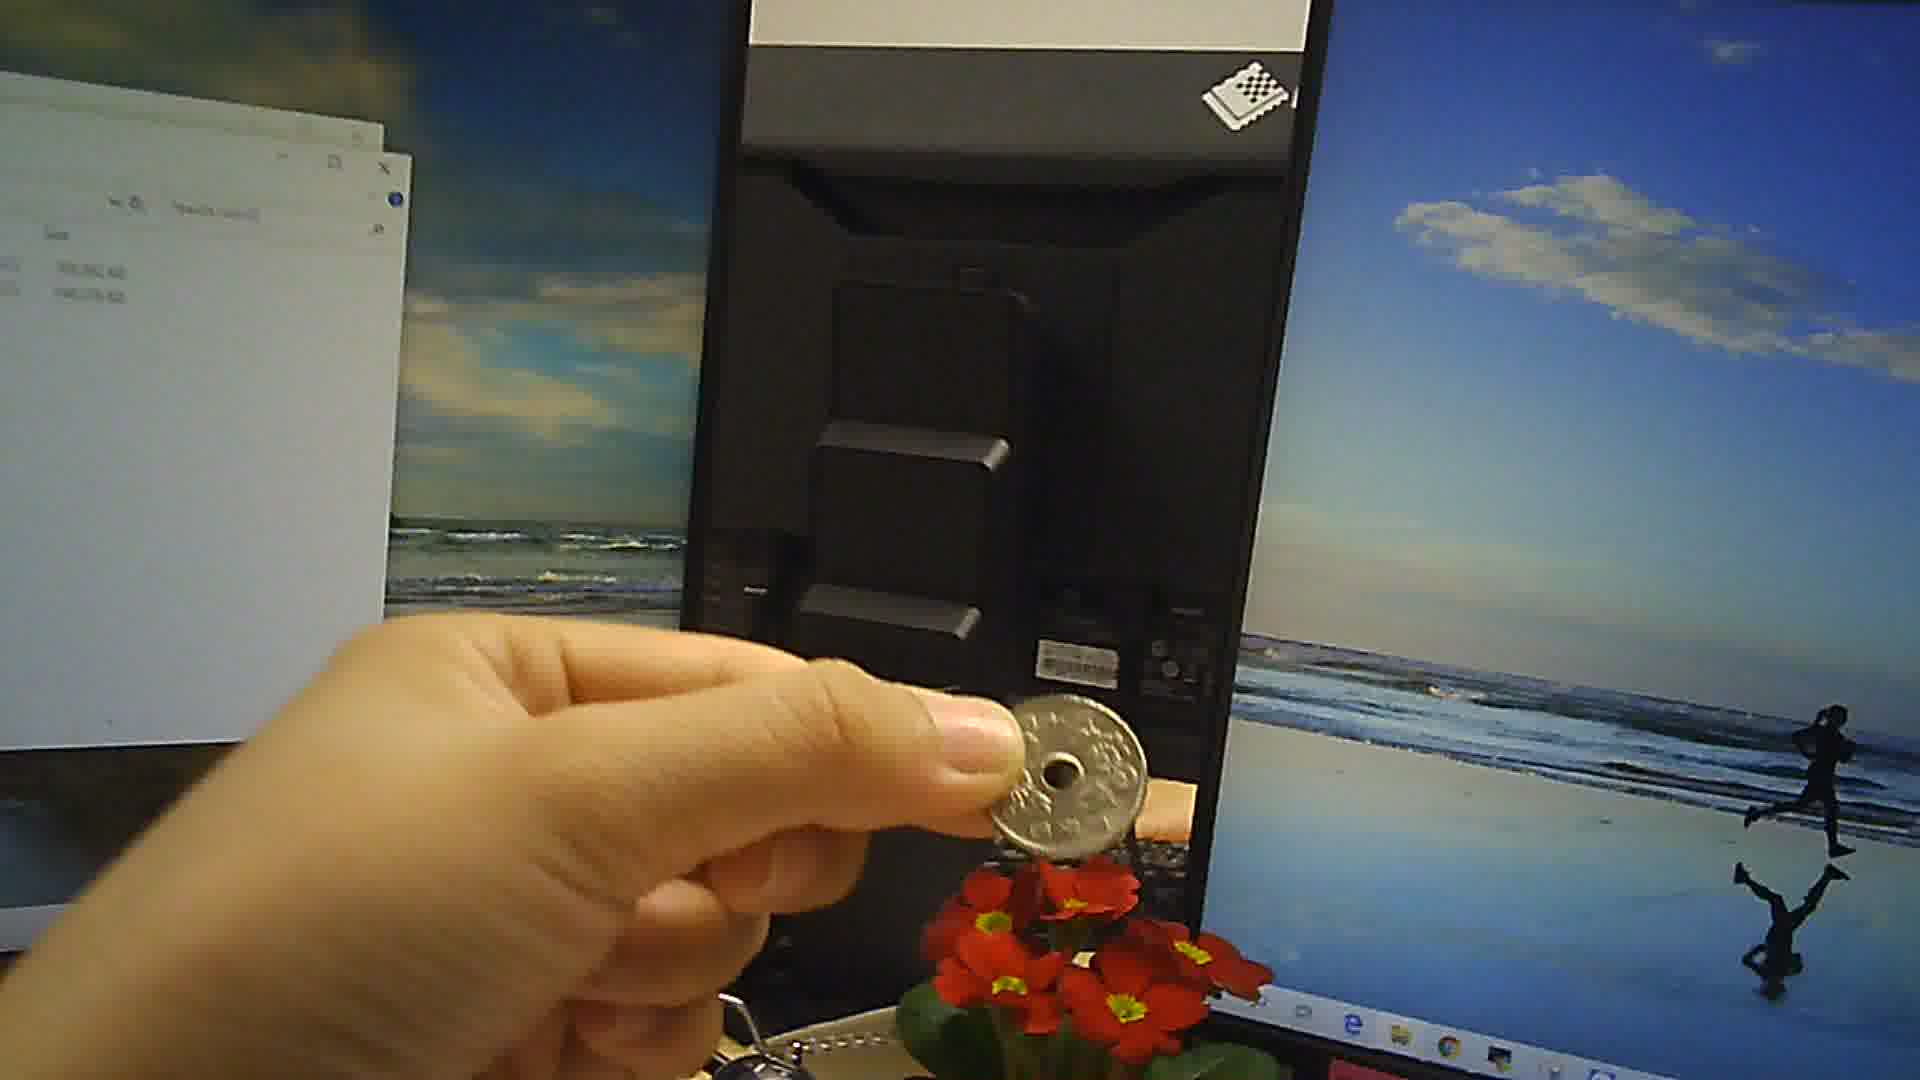50 Yen: (977, 678, 1146, 870)
